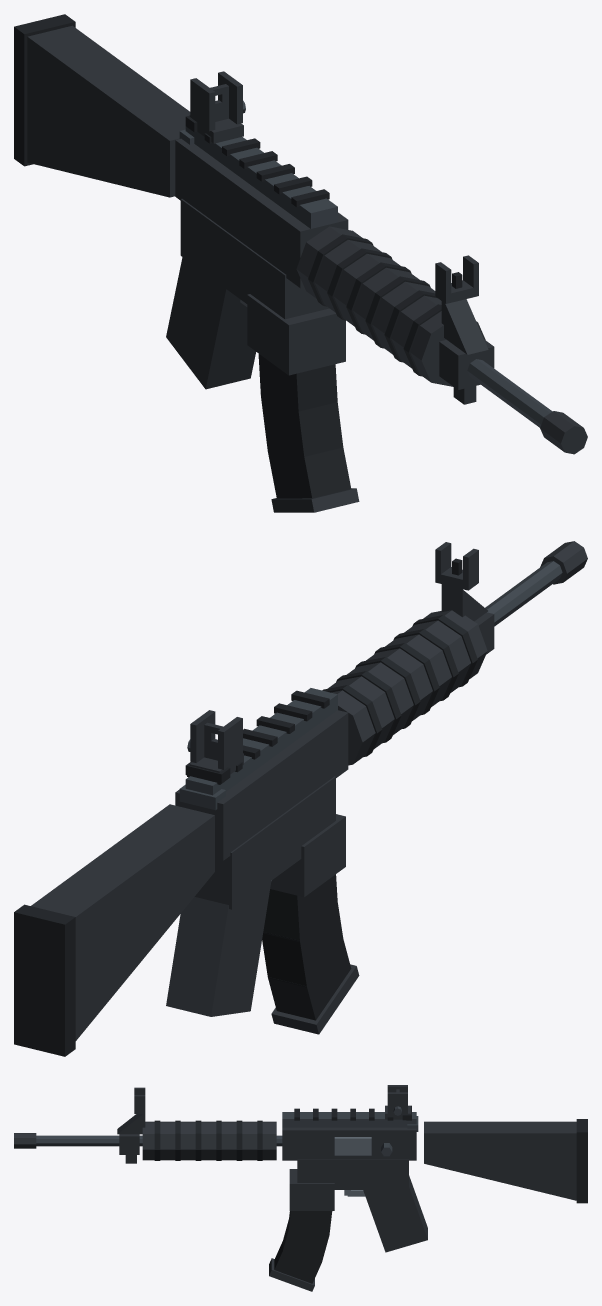
Rendered from wpn_m16.fbx.
3 renders of one model, top to bottom at view 1: azimuth 30°, elevation 25°; view 2: azimuth 150°, elevation 25°; view 3: azimuth 270°, elevation 25°, orthographic. The views are drawn at different scales.
Parts seen in each view (by area): view 1: wpn_m16; view 2: wpn_m16; view 3: wpn_m16.
Part boxes in pixels (bbox=[...]): wpn_m16: bbox=[14, 14, 587, 512]; wpn_m16: bbox=[14, 541, 587, 1056]; wpn_m16: bbox=[14, 1085, 587, 1291].
Bounding box in the file's own units: 25.5 × 116 × 308.
